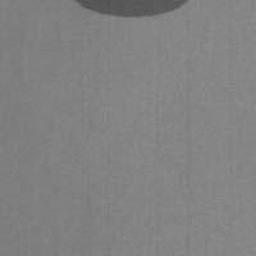Oil spot: (77, 0, 188, 18)
